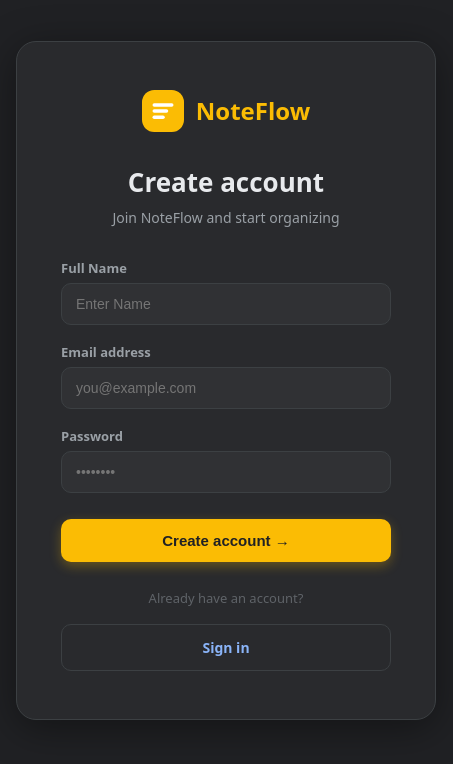
Test: Register Component › displays error message on registration failure
In the field with placeholder "Enter Name": [226, 304] box [61, 282, 391, 324], type "John Doe"
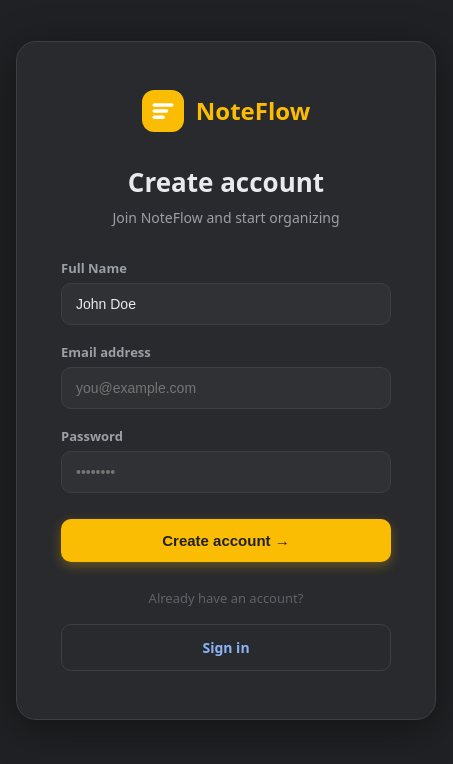
In the field with placeholder "you@example.com": [226, 388] box [61, 366, 391, 408], type "john@gmail.com"
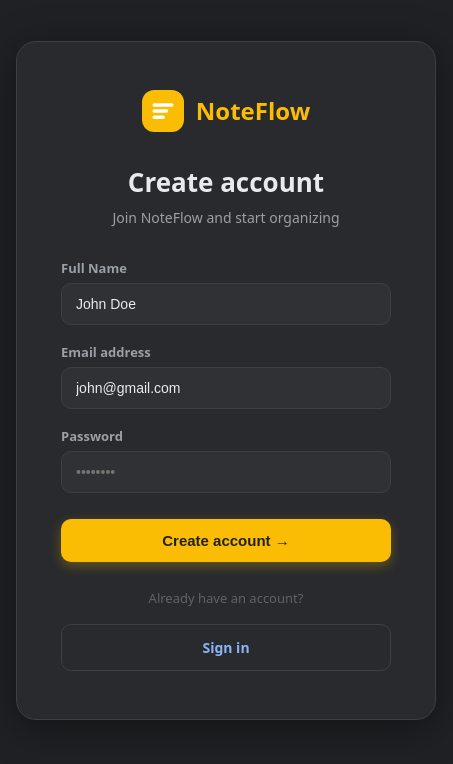
In the password field with placeholder "••••••••": [226, 472] box [61, 450, 391, 492], type "password123"
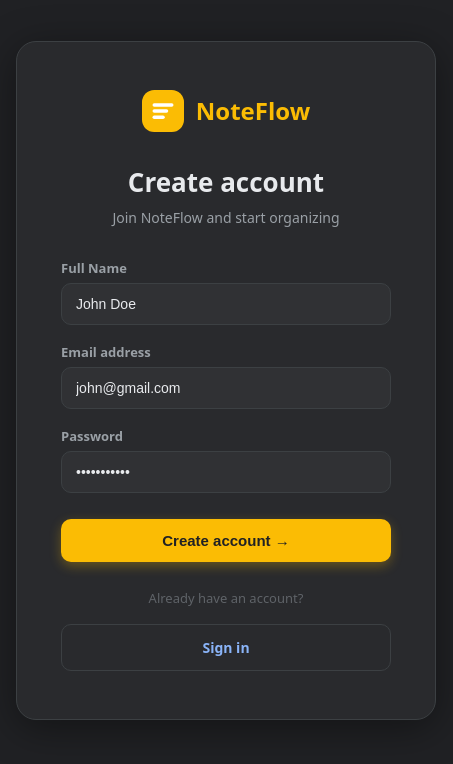
Click the button "Create account →": [226, 540] box [61, 518, 391, 562]
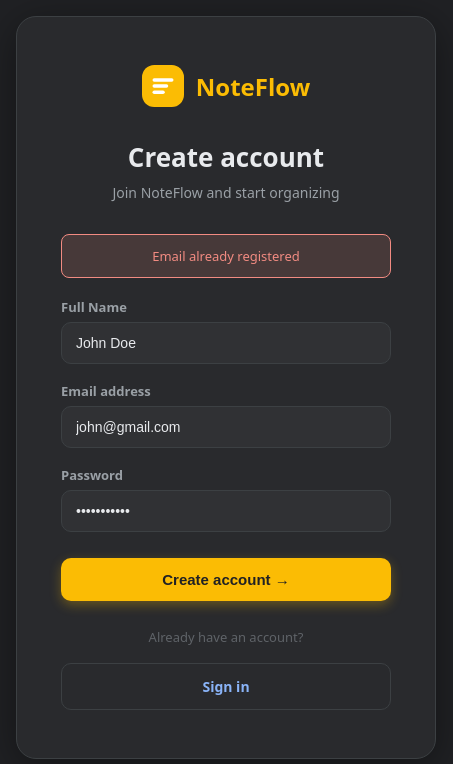
Check: the text "Email already registered" is shown, box [61, 234, 391, 278]
